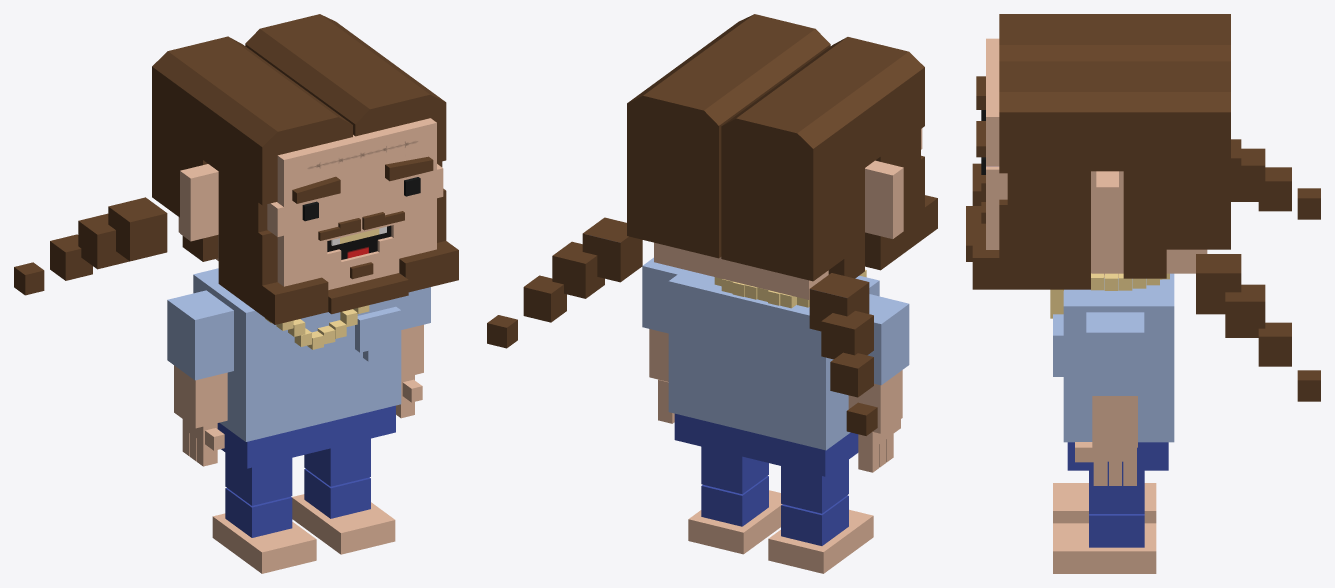
The picture shows the model from 3 angles, left to right: view 1: azimuth 30°, elevation 25°; view 2: azimuth 150°, elevation 25°; view 3: azimuth 270°, elevation 25°; orthographic projection. The views are drawn at different scales.
Visible parts, largest first — view 1: Head_low; view 2: Head_low; view 3: Head_low.
Boxes of the visible parts, box(x1,y1,x2,y2) form: Head_low: box(14, 14, 458, 573); Head_low: box(487, 14, 937, 573); Head_low: box(966, 14, 1320, 573).
Size of the model in its own units: 1.25 by 1.48 by 0.9788.
Materials: 1 (1 with a texture image).
